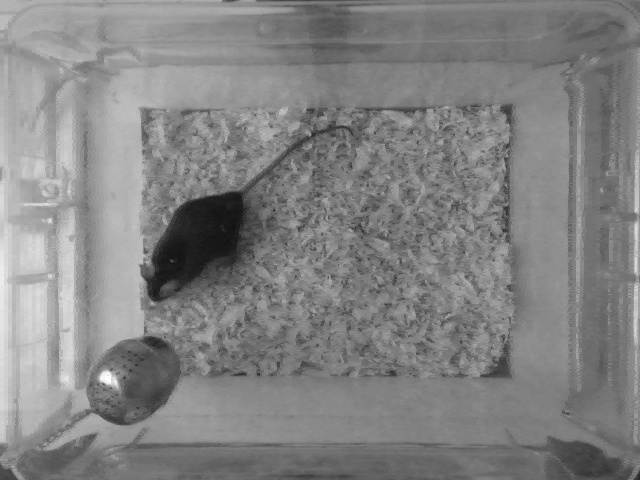mice: (140, 123, 353, 305)
